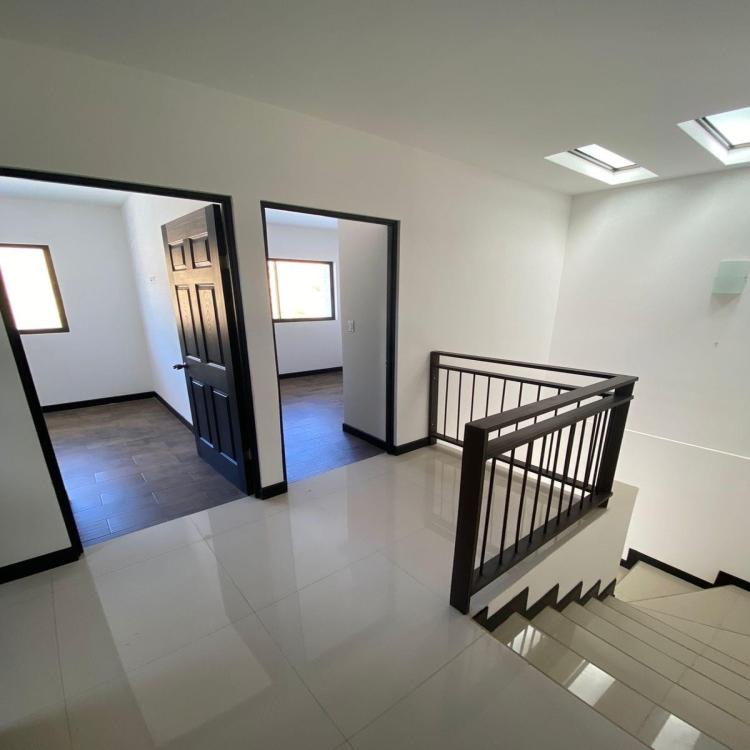OpenDoor: (0, 162, 269, 548), (266, 184, 416, 491)
